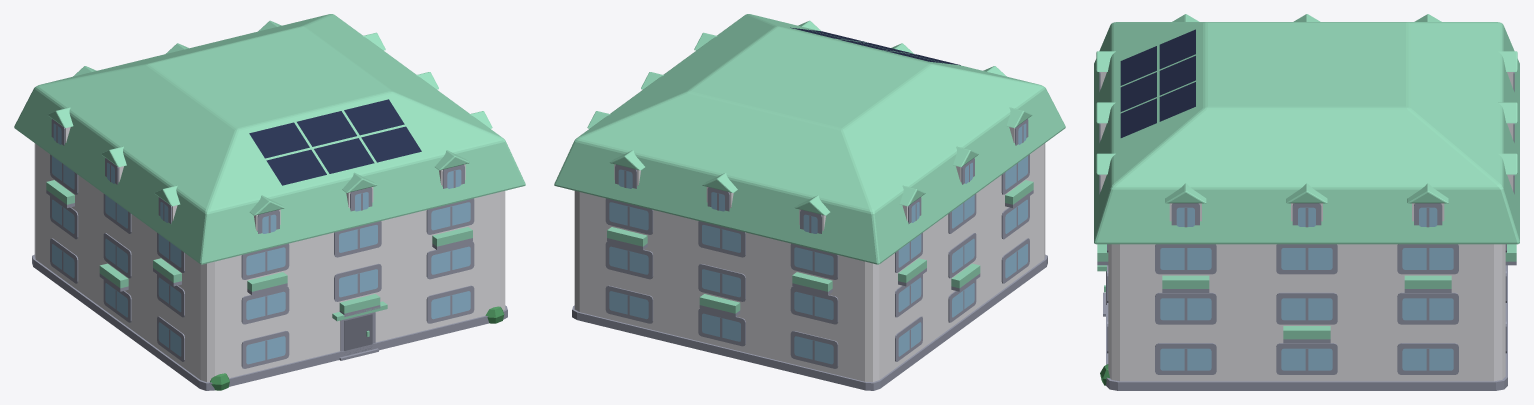
File: house-2x2-3f-tone-a-solar.glb
3 renders of one model, left to right at view 1: azimuth 30°, elevation 25°; view 2: azimuth 150°, elevation 25°; view 3: azimuth 270°, elevation 25°, orthographic. The views are drawn at different scales.
Parts seen in each view (by area): view 1: house-2x2-3f-tone-a-solar; view 2: house-2x2-3f-tone-a-solar; view 3: house-2x2-3f-tone-a-solar.
Boxes of the visible parts, x1,y1,x2,y2 form: house-2x2-3f-tone-a-solar: (14,14,525,390); house-2x2-3f-tone-a-solar: (554,14,1065,390); house-2x2-3f-tone-a-solar: (1094,14,1519,390).
Size of the model in its own units: 1.99 by 1.25 by 1.99.
Materials: 1 (1 with a texture image).
